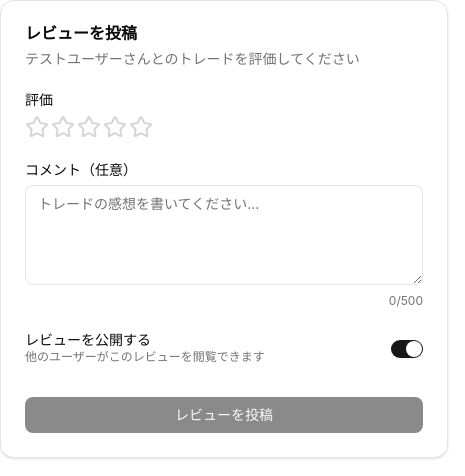
Test case: ReviewForm › コメント入力 › 文字数カウンターを表示する
Type "テスト" into the text box labelled "コメント（任意）".
click(224, 235); type("テスト")  # box [25, 185, 423, 285]
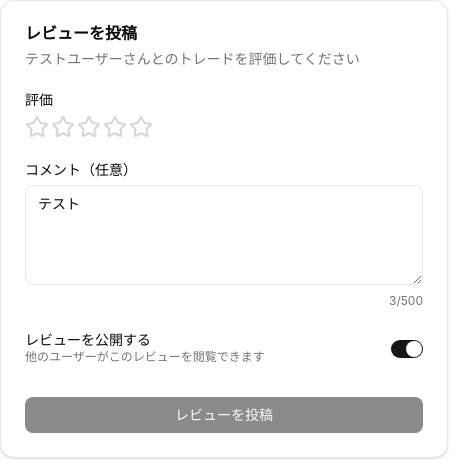
Expected: the text "3/500" is shown, [389, 293, 423, 308]
